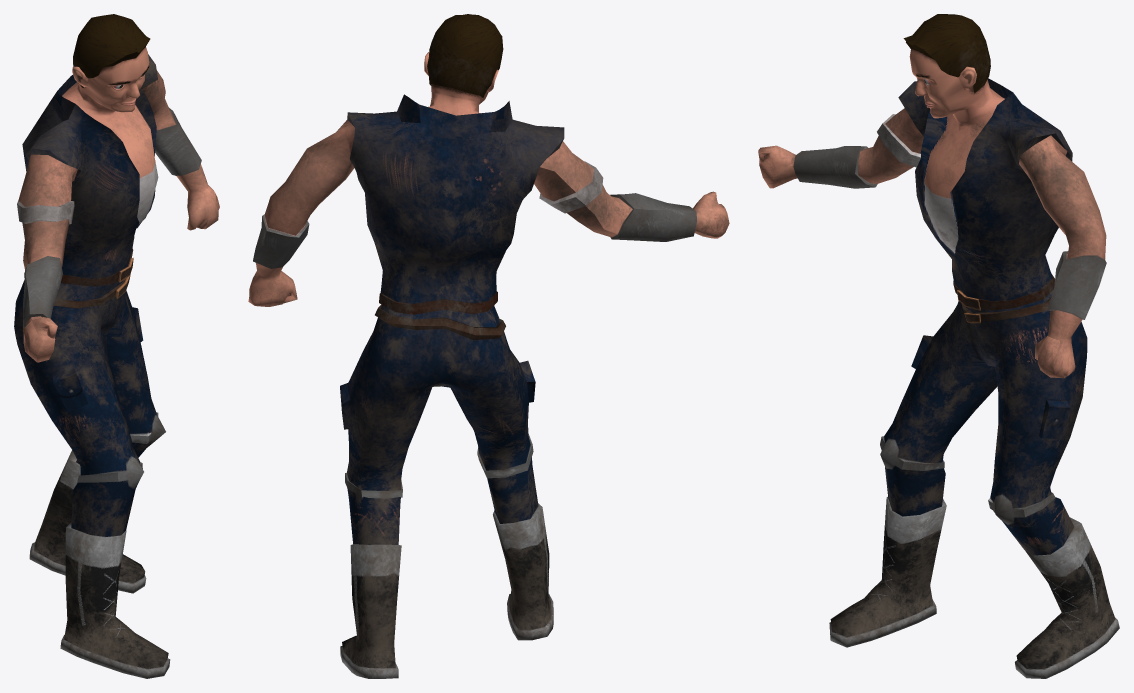
Rendered from Anim_interruptor_jugador.0024.obj.
The picture shows the model from 3 angles, left to right: view 1: azimuth 30°, elevation 25°; view 2: azimuth 150°, elevation 25°; view 3: azimuth 270°, elevation 25°; orthographic projection.
Parts seen in each view (by area): view 1: polySurface1; view 2: polySurface1; view 3: polySurface1.
Boxes of the visible parts, x1,y1,x2,y2 form: polySurface1: (14,14,219,678); polySurface1: (248,14,729,678); polySurface1: (758,14,1119,678).
Size of the model in its own units: 5.23 by 9.29 by 4.87.
